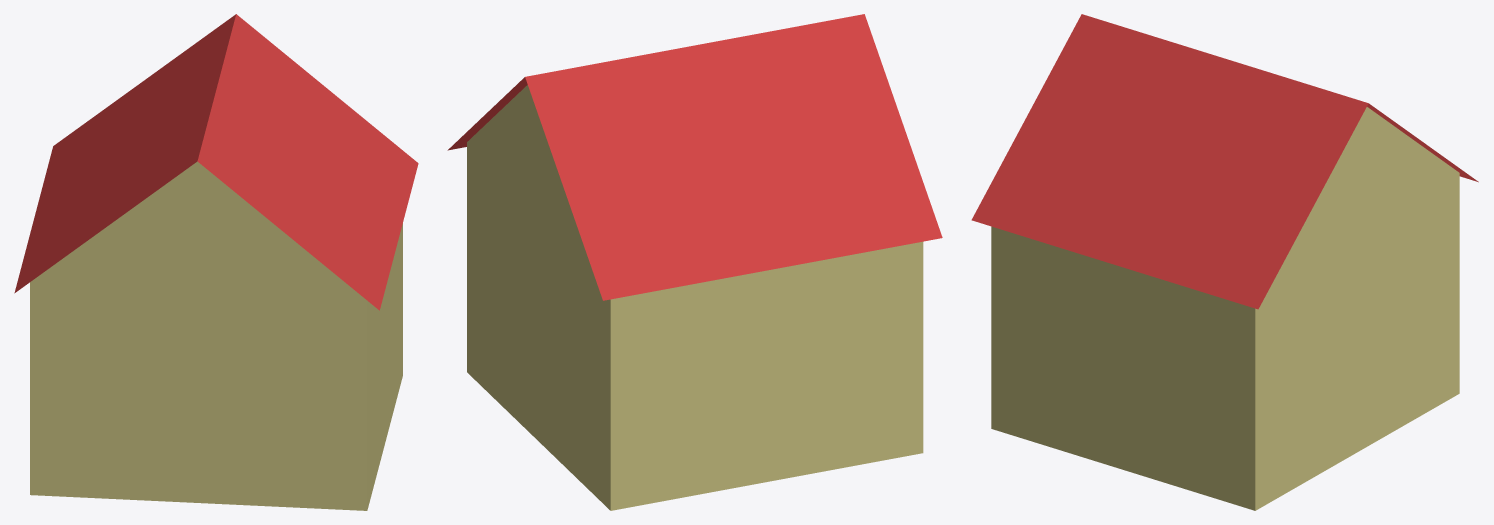
The picture shows the model from 3 angles, left to right: view 1: azimuth 30°, elevation 25°; view 2: azimuth 150°, elevation 25°; view 3: azimuth 270°, elevation 25°; orthographic projection. The views are drawn at different scales.
Size of the model in its own units: 17.96 by 17.83 by 13.66.
